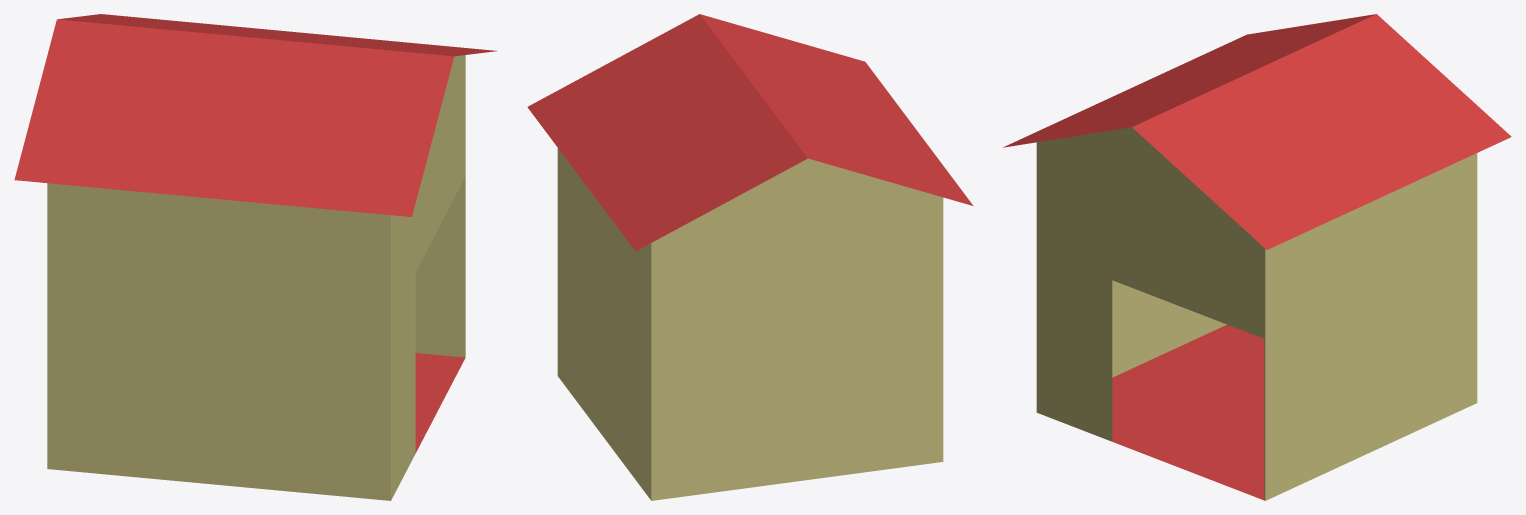
3 renders of one model, left to right at view 1: azimuth 30°, elevation 25°; view 2: azimuth 150°, elevation 25°; view 3: azimuth 270°, elevation 25°, orthographic. The views are drawn at different scales.
Visible parts, largest first — view 1: group_5, group_3, group_4, group_6; view 2: group_5, group_3, group_4; view 3: group_5, group_3, group_6, group_4.
Boxes of the visible parts, x1,y1,x2,y2 form: group_5: (47,55,465,500); group_3: (47,14,464,216); group_4: (14,14,496,216); group_6: (415,353,465,452); group_5: (557,148,943,500); group_3: (558,14,942,251); group_4: (527,14,973,250); group_5: (1036,127,1477,500); group_3: (1003,14,1511,225); group_6: (1112,324,1264,500); group_4: (1005,14,1510,249).
Bounding box in the file's own units: 15.56 × 15.55 × 11.32.
